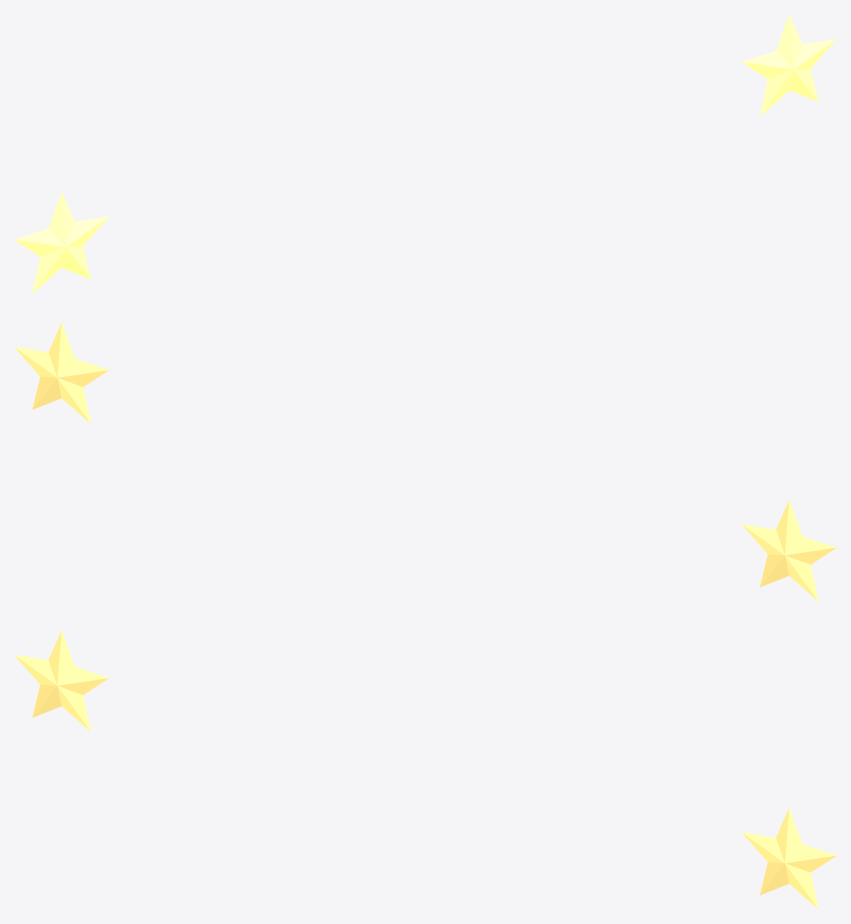
File: earrings_star.glb
The picture shows the model from 3 angles, top to bottom: view 1: azimuth 30°, elevation 25°; view 2: azimuth 150°, elevation 25°; view 3: azimuth 330°, elevation 25°; orthographic projection.
Visible parts, largest first — view 1: earrings_star; view 2: earrings_star; view 3: earrings_star.
Boxes of the visible parts, x1,y1,x2,y2 form: earrings_star: [14, 14, 836, 293]; earrings_star: [14, 322, 836, 601]; earrings_star: [14, 630, 836, 909].
Bounding box in the file's own units: 0.6561 × 0.0724 × 0.012.
